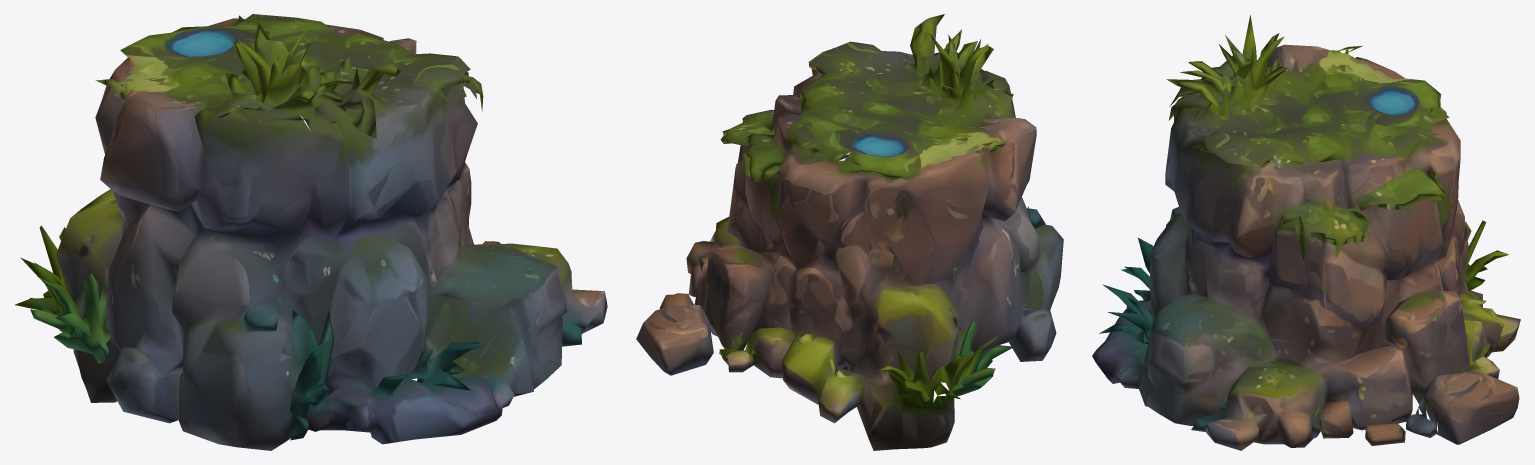
The model's file is jungle_rock.glb.
3 views of the same model, side by side, from view 1: azimuth 30°, elevation 25°; view 2: azimuth 150°, elevation 25°; view 3: azimuth 270°, elevation 25° (orthographic). The views are drawn at different scales.
Visible parts, largest first — view 1: tripo_node_a1528a3d-c517-48f8-8f8d-aa7b87448343; view 2: tripo_node_a1528a3d-c517-48f8-8f8d-aa7b87448343; view 3: tripo_node_a1528a3d-c517-48f8-8f8d-aa7b87448343.
Boxes of the visible parts, box(x1,y1,x2,y2) form: tripo_node_a1528a3d-c517-48f8-8f8d-aa7b87448343: box(15, 14, 607, 450); tripo_node_a1528a3d-c517-48f8-8f8d-aa7b87448343: box(636, 14, 1063, 450); tripo_node_a1528a3d-c517-48f8-8f8d-aa7b87448343: box(1092, 15, 1520, 450).
Size of the model in its own units: 0.9747 by 0.8483 by 0.9304.
1 material, 1 textured.
